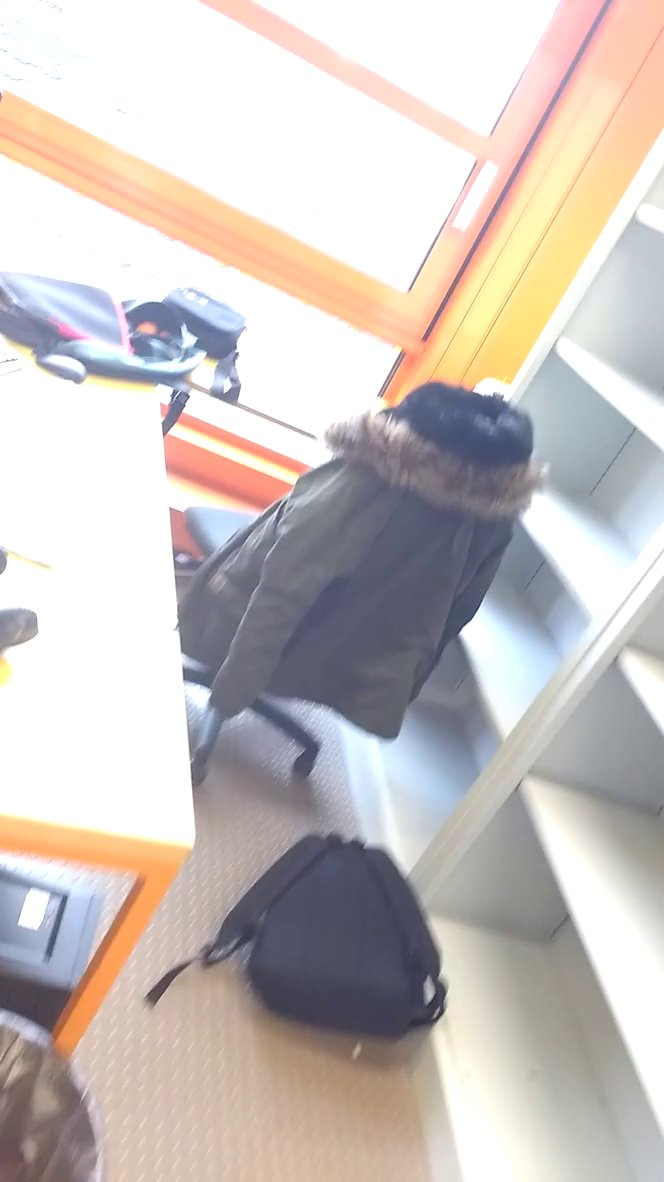bag: (197, 829, 453, 1058)
